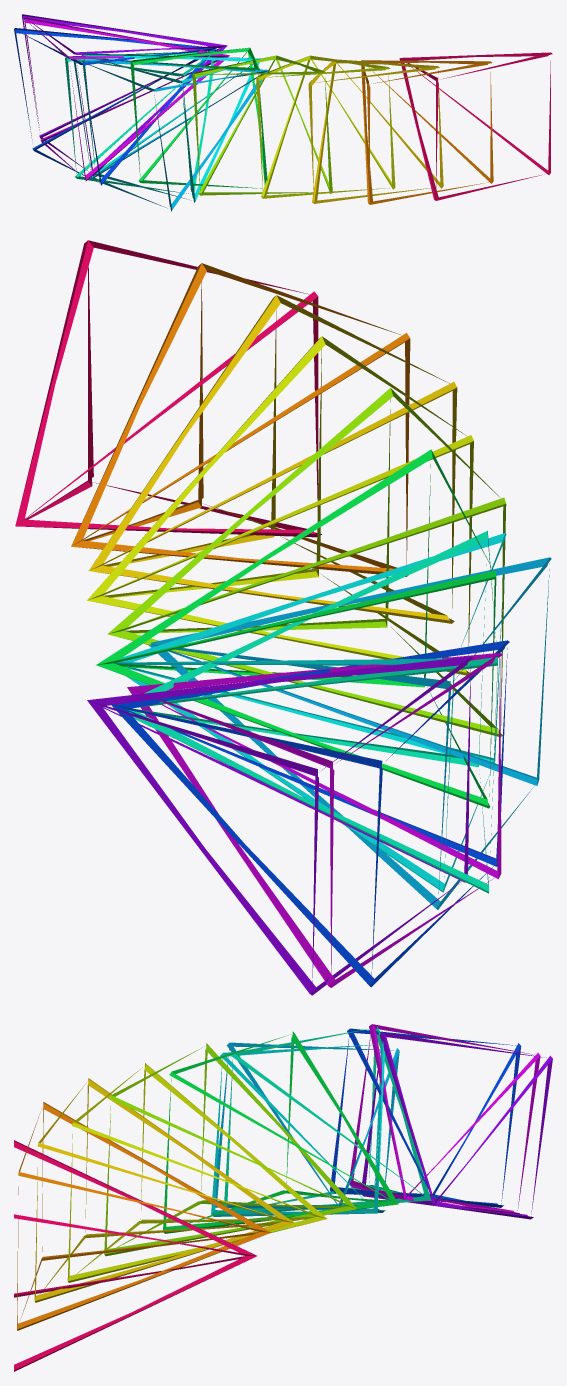
File: glbscene_93.2_All_maskbFalse_maskwFalse_camTrue_skyFalse_predDepthmap_and_Camera_Branch.glb
The picture shows the model from 3 angles, top to bottom: view 1: azimuth 30°, elevation 25°; view 2: azimuth 150°, elevation 25°; view 3: azimuth 270°, elevation 25°; orthographic projection. The views are drawn at different scales.
Visible parts, largest first — view 1: world; view 2: world; view 3: world.
Boxes of the visible parts, <box> form: world: <box>14,14,552,211</box>; world: <box>15,240,551,995</box>; world: <box>14,1024,552,1371</box>.
Size of the model in its own units: 0.3277 by 0.1449 by 0.3395.
